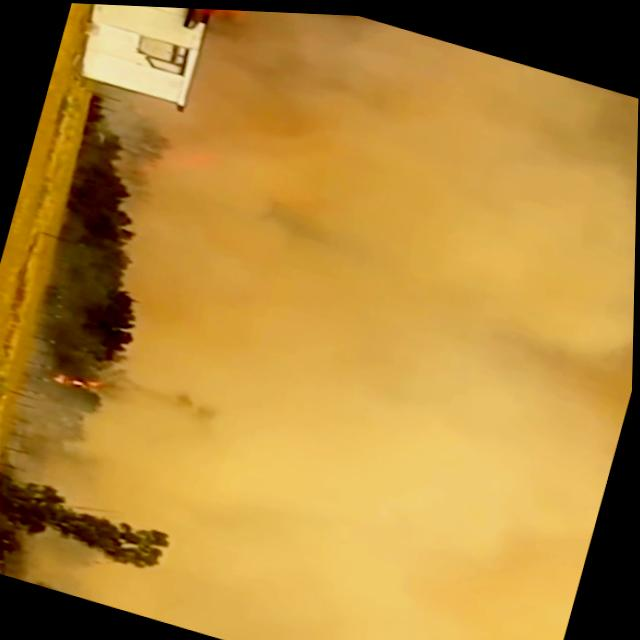smoke: (131, 5, 640, 640)
